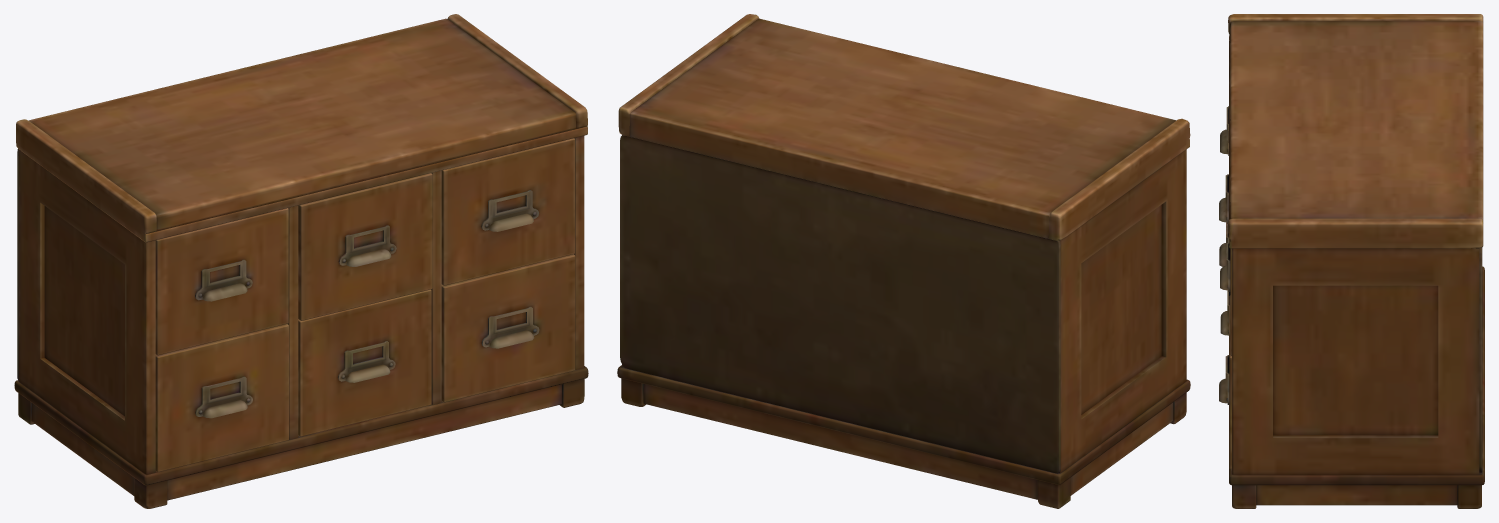
File: vintage_wooden_drawer_01.glb
3 views of the same model, side by side, from view 1: azimuth 30°, elevation 25°; view 2: azimuth 150°, elevation 25°; view 3: azimuth 270°, elevation 25° (orthographic). The views are drawn at different scales.
Visible parts, largest first — view 1: vintage_wooden_drawer_01_body; view 2: vintage_wooden_drawer_01_body; view 3: vintage_wooden_drawer_01_body.
Part boxes in pixels (x1=…): vintage_wooden_drawer_01_body: x1=14, y1=14, x2=588, y2=508; vintage_wooden_drawer_01_body: x1=617, y1=14, x2=1190, y2=508; vintage_wooden_drawer_01_body: x1=1219, y1=14, x2=1484, y2=508.
Bounding box in the file's own units: 0.8576 × 0.5455 × 0.4574.
Materials: 1 (1 with a texture image).
